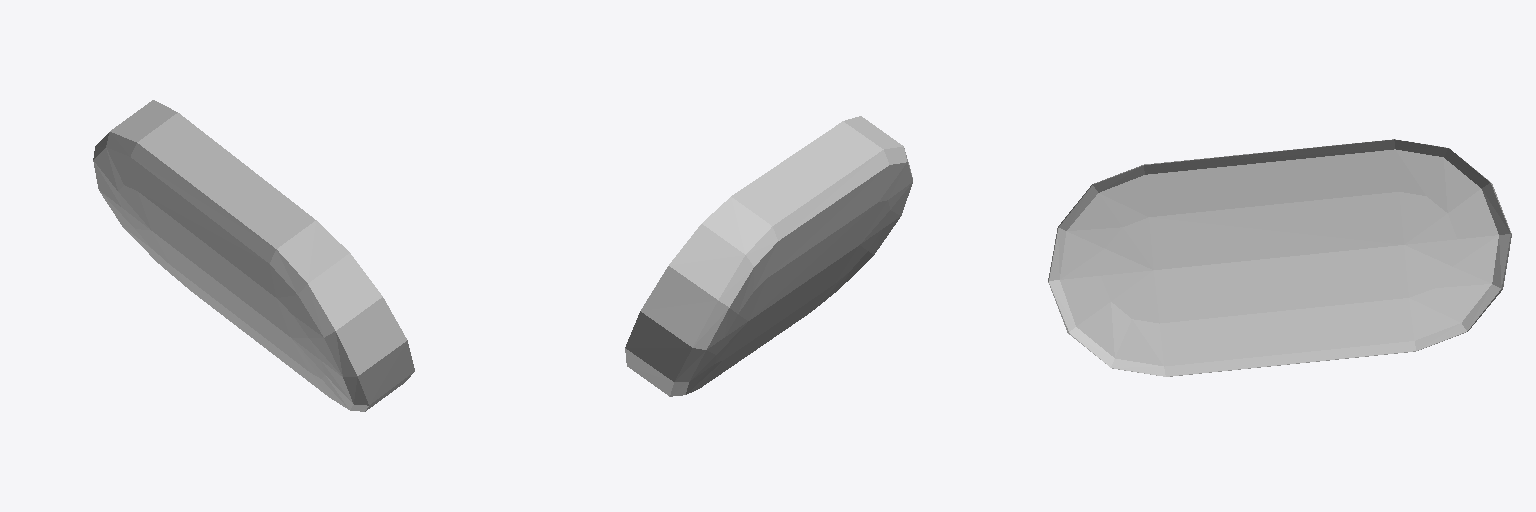
The model's file is l_grip.obj.
3 views of the same model, side by side, from view 1: azimuth 30°, elevation 25°; view 2: azimuth 150°, elevation 25°; view 3: azimuth 270°, elevation 25° (orthographic).
Visible parts, largest first — view 1: r_grip1:group1 r_grip1:r_gripper l_grip1:polySurface; view 2: r_grip1:group1 r_grip1:r_gripper l_grip1:polySurface; view 3: r_grip1:group1 r_grip1:r_gripper l_grip1:polySurface.
Part boxes in pixels (x1,y1,x2,y2): r_grip1:group1 r_grip1:r_gripper l_grip1:polySurface: (93,100,414,411); r_grip1:group1 r_grip1:r_gripper l_grip1:polySurface: (625,116,912,396); r_grip1:group1 r_grip1:r_gripper l_grip1:polySurface: (1048,139,1511,376).
Size of the model in its own units: 0.01 by 0.015 by 0.0296.